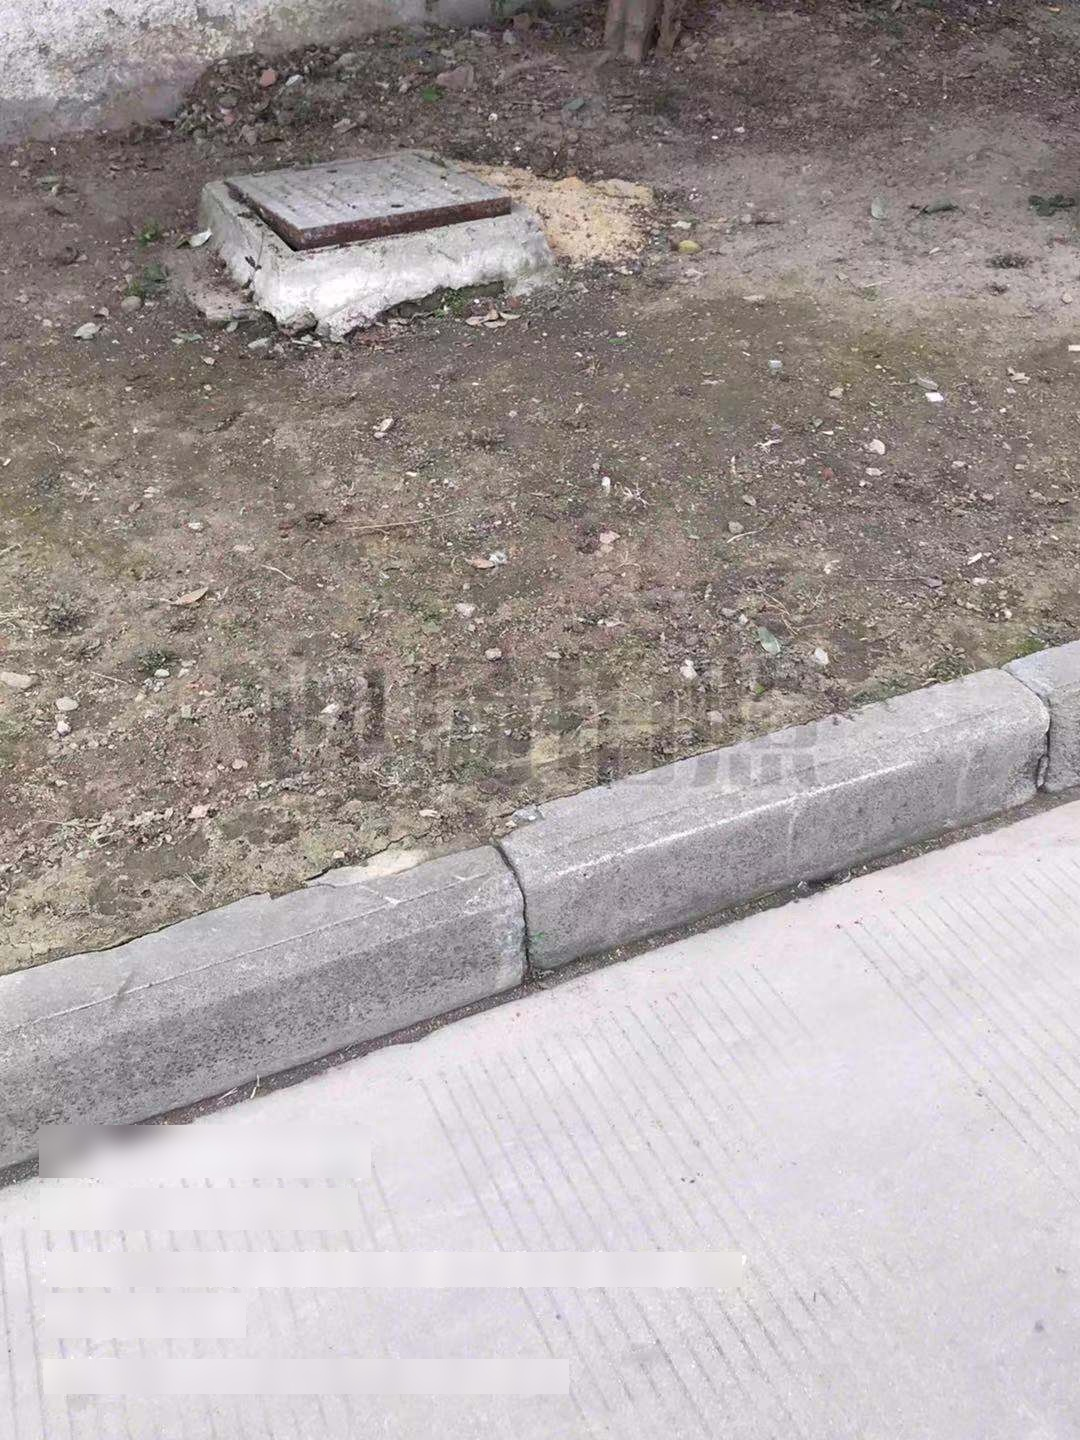uncovered: (205, 149, 520, 266)
